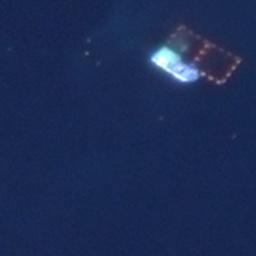square_solid: (160, 21, 213, 73), (190, 40, 245, 89)
